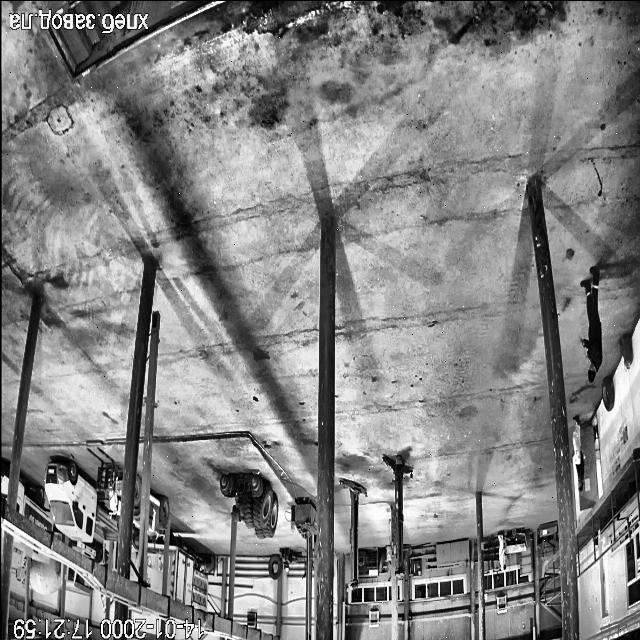car lift: (383, 455, 412, 576), (340, 479, 366, 588)
fire extinguisher: (619, 334, 632, 368)
mechanic: (580, 268, 600, 382), (572, 415, 584, 492)
truck: (45, 460, 116, 540), (166, 533, 208, 611), (16, 482, 52, 532), (97, 463, 122, 524), (144, 494, 168, 542), (30, 558, 60, 595), (147, 540, 164, 594), (14, 537, 48, 560), (131, 476, 141, 551), (66, 567, 92, 595), (70, 542, 105, 562), (0, 464, 8, 500), (16, 558, 24, 582), (132, 552, 136, 564), (100, 596, 104, 607), (130, 571, 135, 579), (136, 612, 148, 614), (165, 532, 168, 534)
